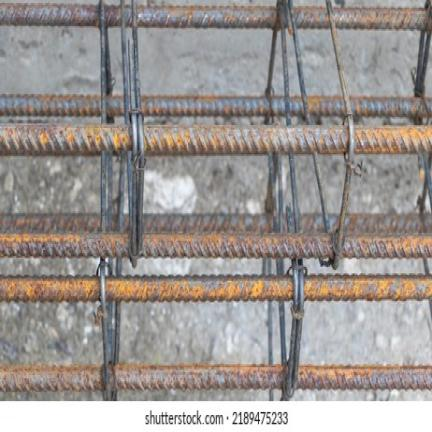besi_tidak_karat: (122, 0, 145, 268), (285, 260, 306, 398), (97, 260, 111, 401)
karat: (144, 125, 347, 157), (107, 275, 292, 302), (140, 233, 331, 259), (111, 365, 282, 391)
